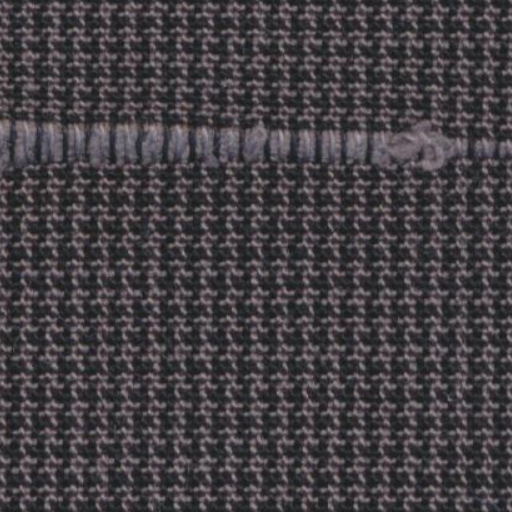DaiSha: (6, 102, 504, 182)
